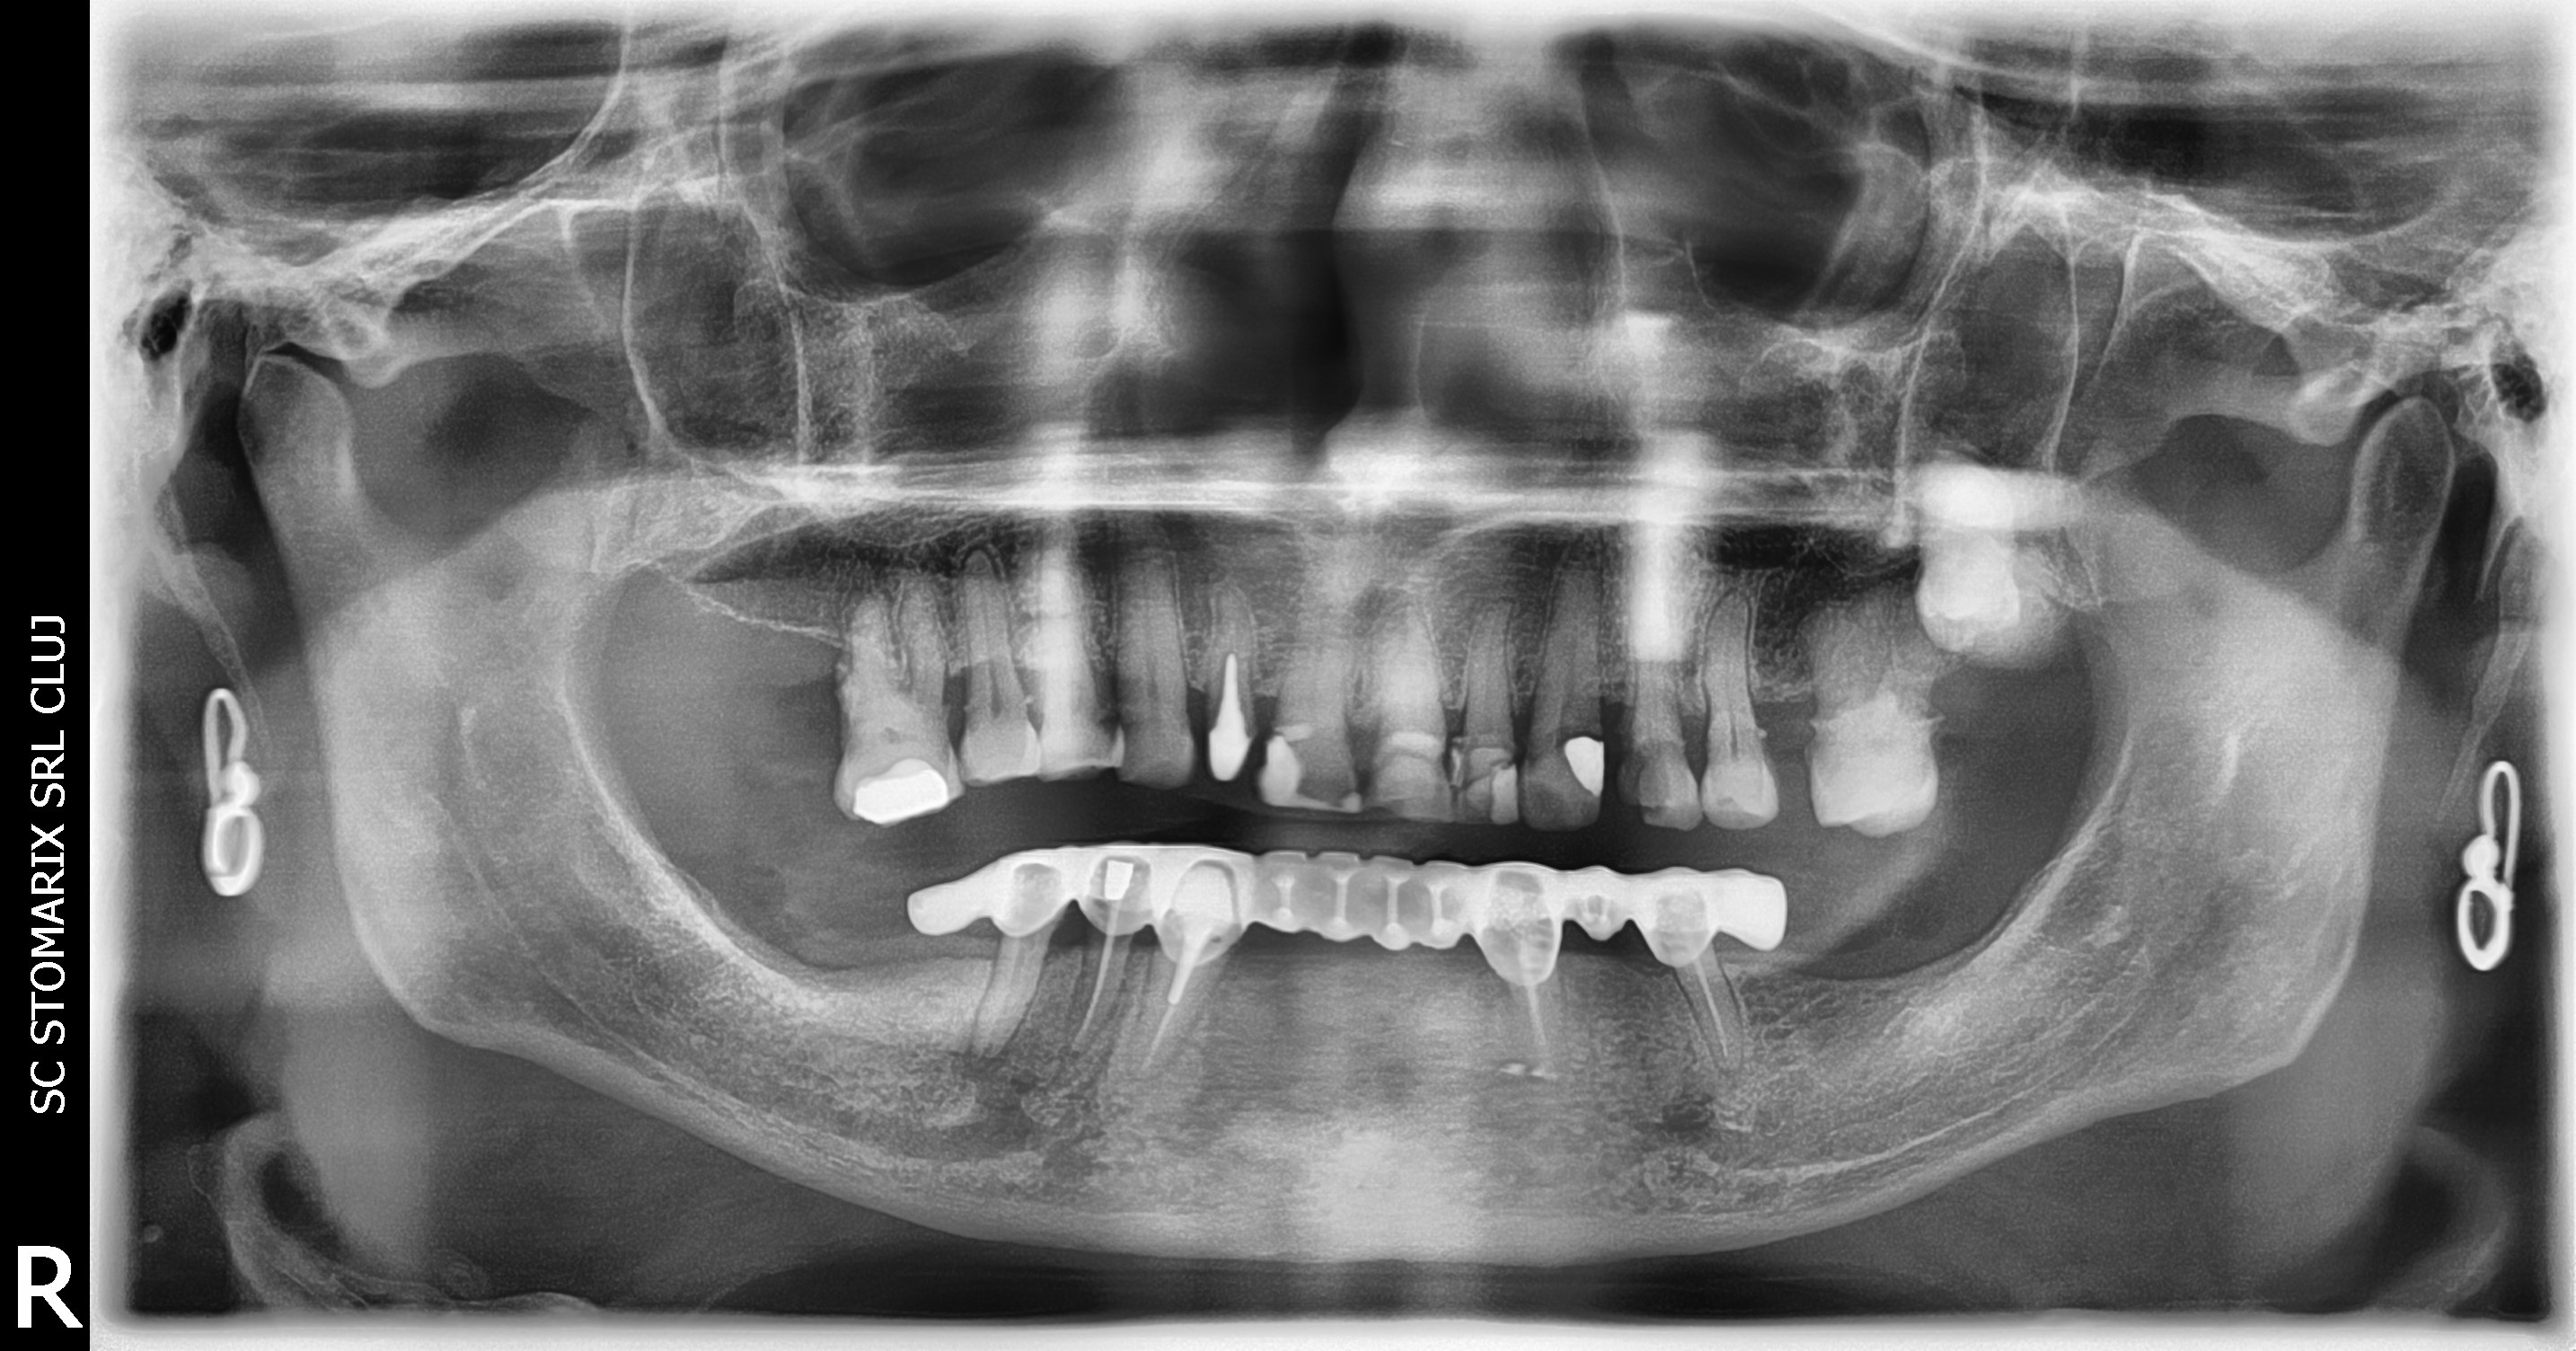BON: (1741, 658, 1840, 739), (927, 629, 990, 717), (1663, 702, 1728, 779), (1579, 690, 1649, 753), (1499, 675, 1555, 746)
END: (1044, 927, 1148, 1065), (1665, 954, 1757, 1075), (1121, 961, 1208, 1085), (1504, 983, 1578, 1089)
IMT: (1876, 451, 2051, 678)
OBT: (1247, 707, 1368, 833), (831, 727, 963, 842), (1542, 714, 1625, 831), (1467, 734, 1538, 842)
PRR: (862, 833, 1828, 1003)
